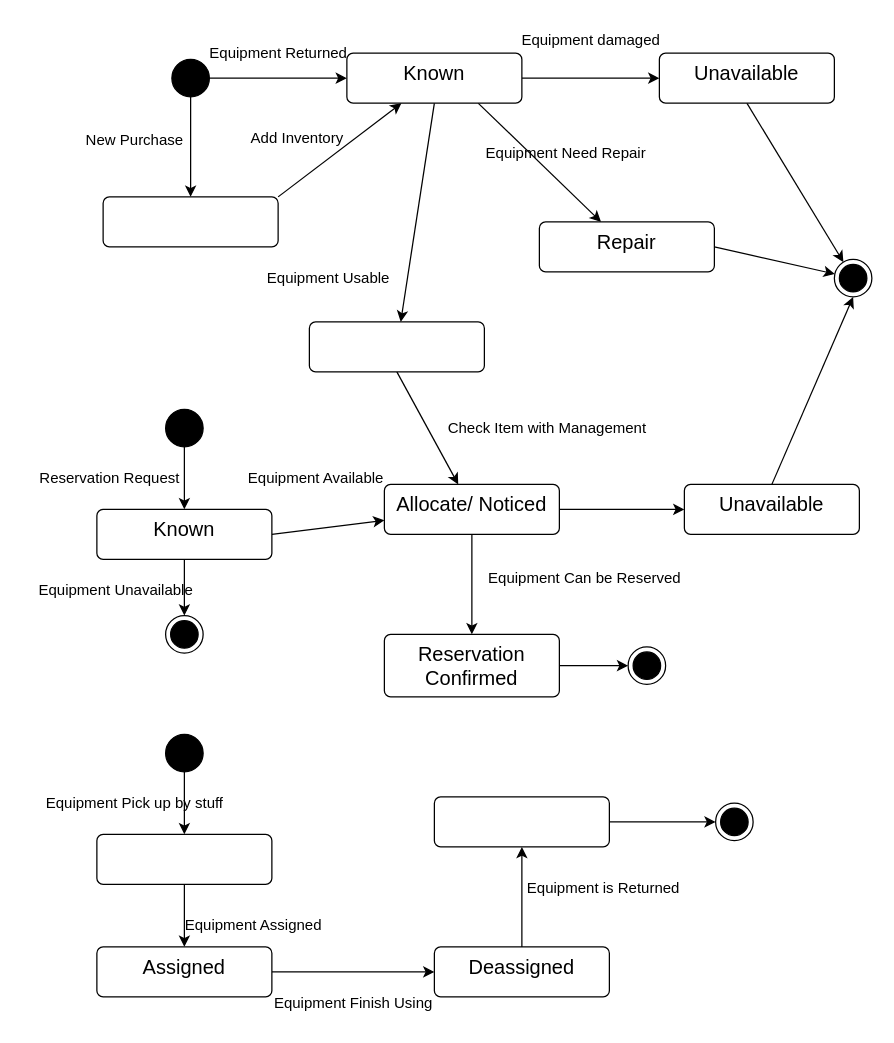
The diagram is 894 pixels wide and 1043 high, and some of its shapes have lost their labels. Here are the shapes that lost their labels. From the top down, the centre of each, then its label:
At pixel 190 221: "New".
At pixel 396 346: "Available".
At pixel 521 821: "Returned".
At pixel 184 858: "Pick Up".
